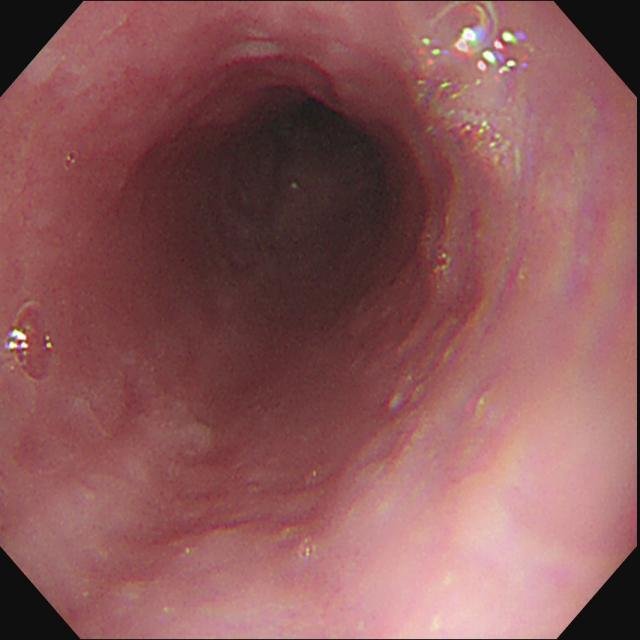T: (2, 301, 56, 382)
U: (454, 27, 530, 75), (7, 328, 31, 351)
